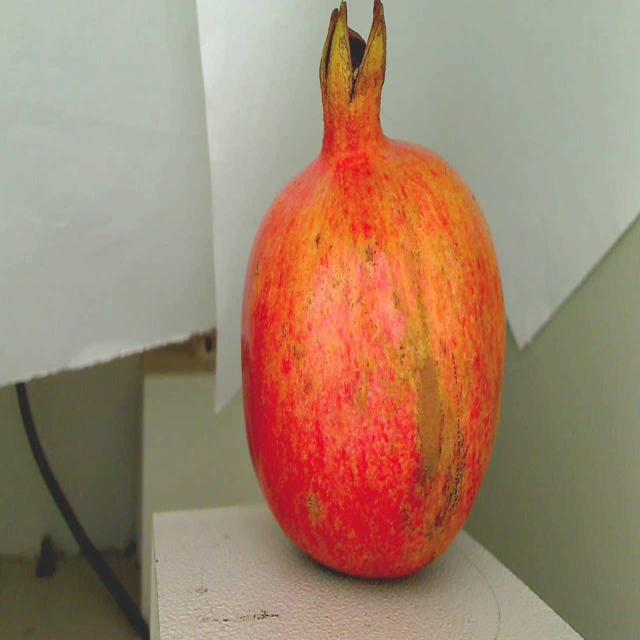pomegranate: (227, 0, 519, 593)
